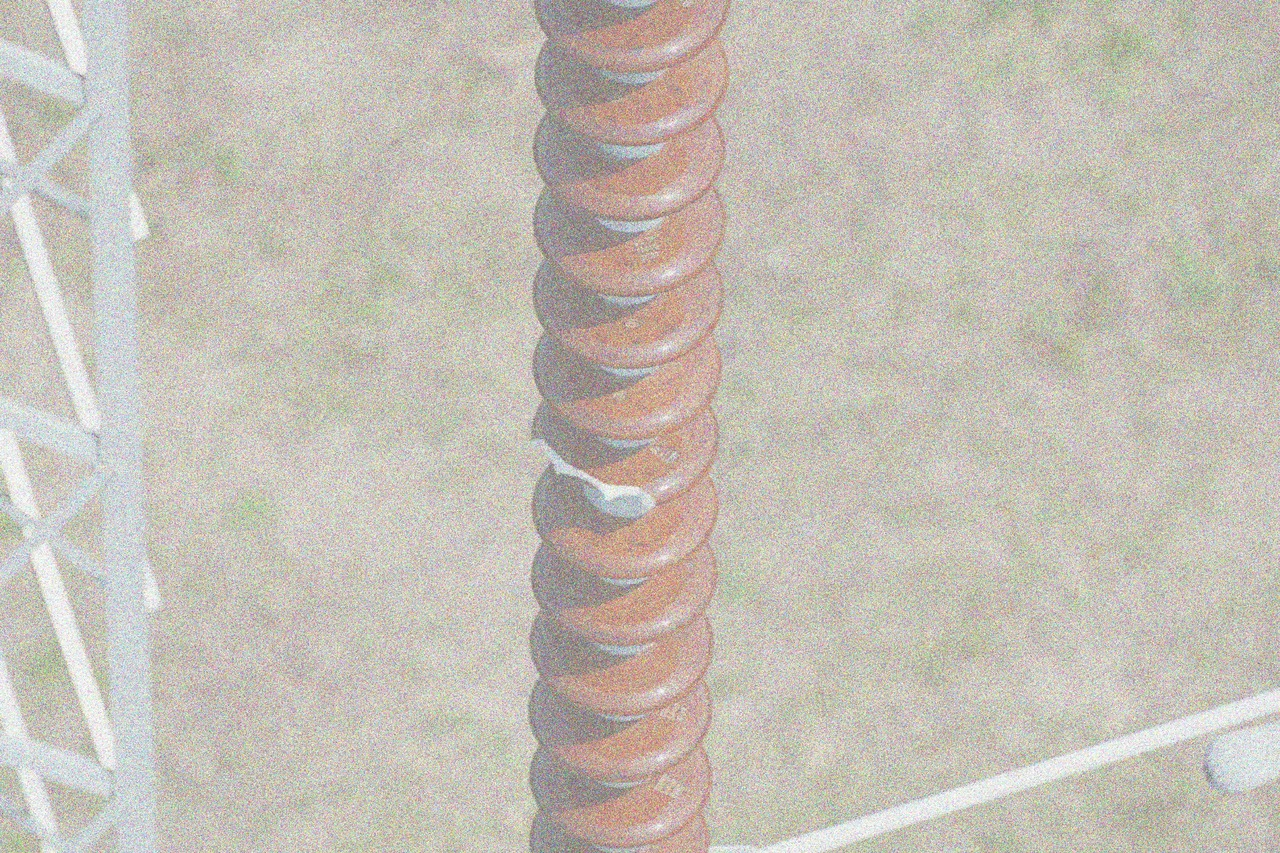Broken: (519, 408, 723, 511)
No issues: (529, 107, 729, 222), (534, 30, 733, 145), (531, 184, 731, 298), (528, 254, 728, 368), (528, 329, 728, 437), (519, 674, 719, 782), (524, 608, 723, 716), (525, 540, 724, 647), (525, 743, 714, 847), (530, 0, 731, 66)
String: (506, 2, 751, 853)
